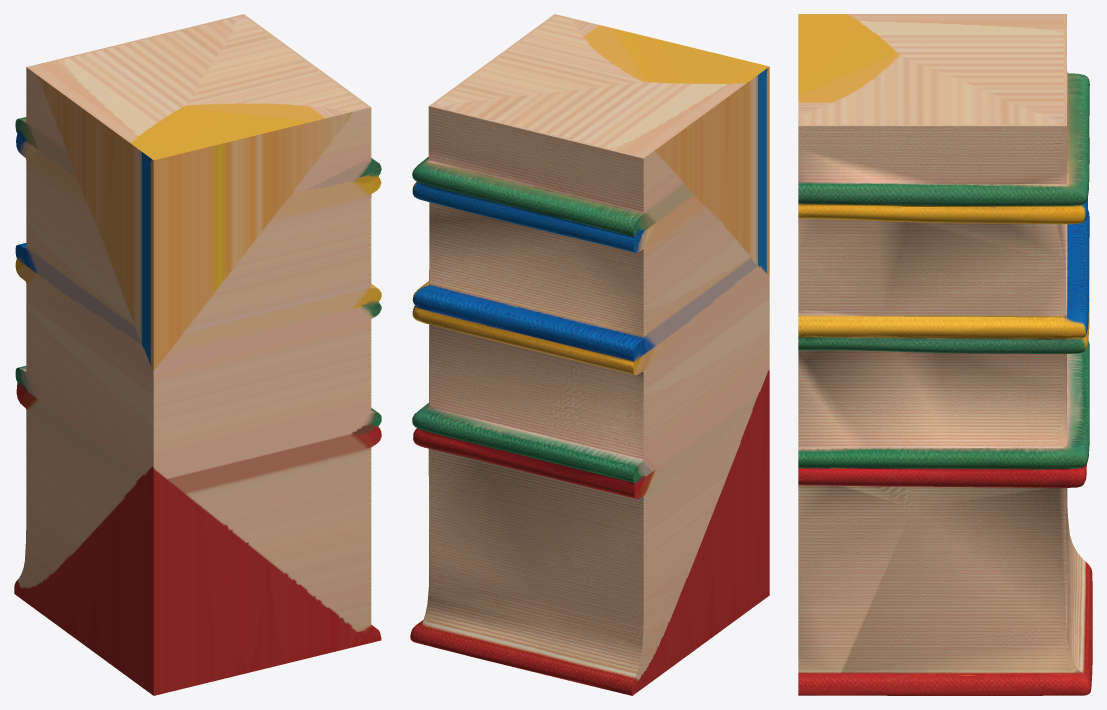
The model's file is 4-ground-floor-back-right.fbx.
3 renders of one model, left to right at view 1: azimuth 30°, elevation 25°; view 2: azimuth 150°, elevation 25°; view 3: azimuth 270°, elevation 25°, orthographic. The views are drawn at different scales.
Visible parts, largest first — view 1: ground-floor-back-right; view 2: ground-floor-back-right; view 3: ground-floor-back-right.
Part boxes in pixels (x1,y1,x2,y2): ground-floor-back-right: [14, 14, 381, 695]; ground-floor-back-right: [410, 14, 769, 695]; ground-floor-back-right: [798, 14, 1092, 695].
Size of the model in its own units: 6035 by 13497 by 6379.
1 material, 1 textured.
